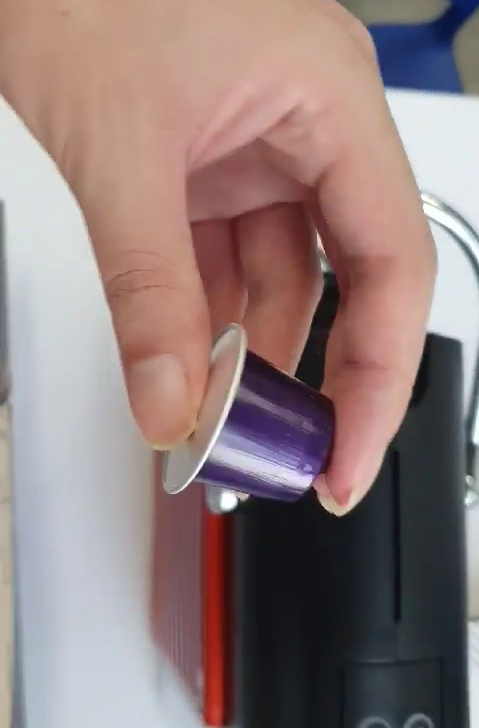capsule_11: (151, 321, 341, 509)
